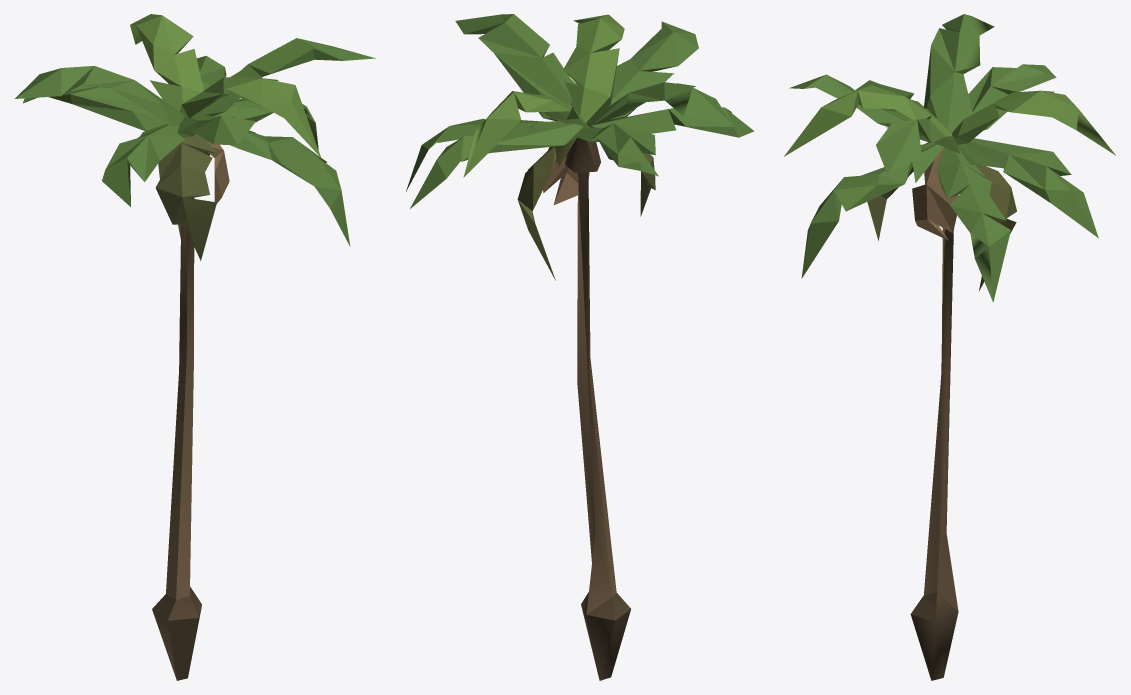
The model's file is Palm_01_SOP.fbx.
The picture shows the model from 3 angles, left to right: view 1: azimuth 30°, elevation 25°; view 2: azimuth 150°, elevation 25°; view 3: azimuth 270°, elevation 25°; orthographic projection.
Parts seen in each view (by area): view 1: SM_Env_PalmTree_01; view 2: SM_Env_PalmTree_01; view 3: SM_Env_PalmTree_01.
Part boxes in pixels (x1,y1,x2,y2): SM_Env_PalmTree_01: (15, 14, 375, 680); SM_Env_PalmTree_01: (406, 14, 754, 680); SM_Env_PalmTree_01: (784, 14, 1115, 680).
Bounding box in the file's own units: 4.98 × 9.32 × 4.58.
